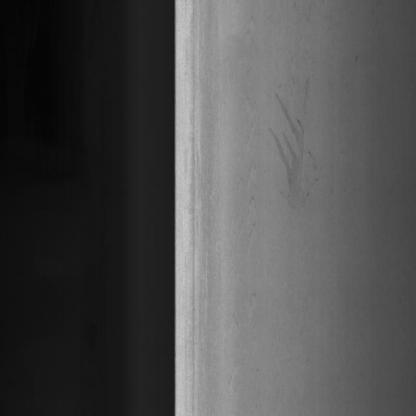water_spot: (264, 74, 326, 224)
